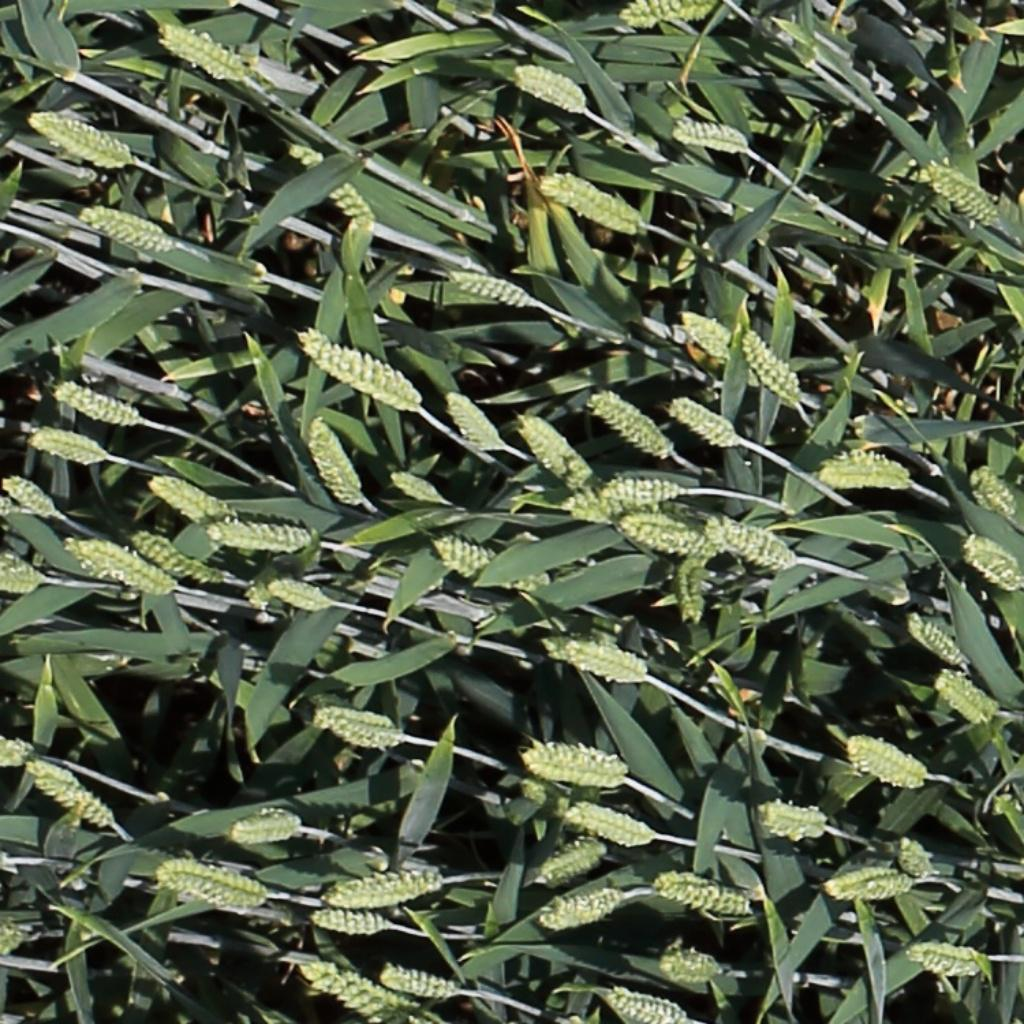0-0: (287, 140, 385, 241), (300, 330, 419, 408), (14, 746, 114, 830), (59, 532, 172, 593), (537, 627, 649, 684), (301, 961, 401, 1019), (741, 324, 808, 408), (307, 412, 365, 507), (514, 738, 629, 785), (543, 174, 643, 228), (592, 390, 673, 456), (516, 410, 584, 484), (32, 111, 128, 163), (159, 24, 248, 79), (131, 532, 222, 584), (924, 161, 1000, 222), (820, 442, 915, 490), (443, 386, 506, 453), (159, 868, 267, 907), (656, 871, 756, 913), (81, 203, 172, 248), (711, 521, 797, 567), (54, 379, 141, 424), (559, 805, 655, 845), (619, 517, 718, 555), (849, 740, 929, 787), (825, 859, 916, 899), (450, 266, 536, 307), (513, 65, 589, 111), (671, 397, 741, 446), (907, 613, 968, 669), (150, 475, 225, 520), (329, 876, 443, 905), (249, 572, 333, 610), (968, 462, 1022, 521), (935, 674, 998, 724), (962, 539, 1022, 591), (540, 894, 623, 929), (229, 801, 300, 839), (761, 805, 830, 844), (316, 715, 402, 746), (598, 476, 689, 505), (208, 525, 312, 550), (540, 845, 607, 883), (608, 989, 685, 1022), (681, 309, 738, 353), (379, 966, 461, 996), (28, 432, 106, 462), (1, 473, 57, 514), (679, 550, 707, 632), (434, 537, 496, 573), (897, 834, 939, 887), (909, 948, 993, 974), (622, 1, 714, 24), (674, 121, 752, 148), (390, 469, 443, 503), (309, 913, 390, 935), (0, 729, 35, 765), (663, 957, 723, 977), (0, 566, 45, 591), (0, 914, 20, 954), (0, 492, 20, 514)
